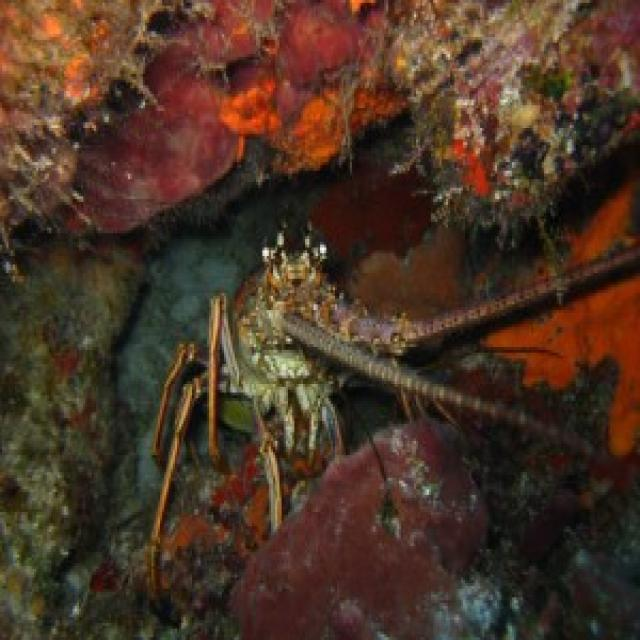lobsters: (99, 156, 630, 590)
